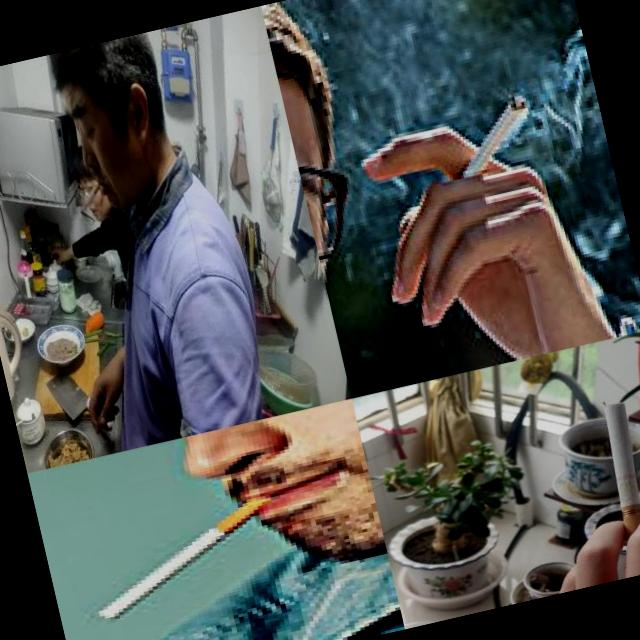smoke: (77, 489, 290, 623), (444, 85, 546, 178), (593, 401, 640, 553), (76, 181, 105, 213)
